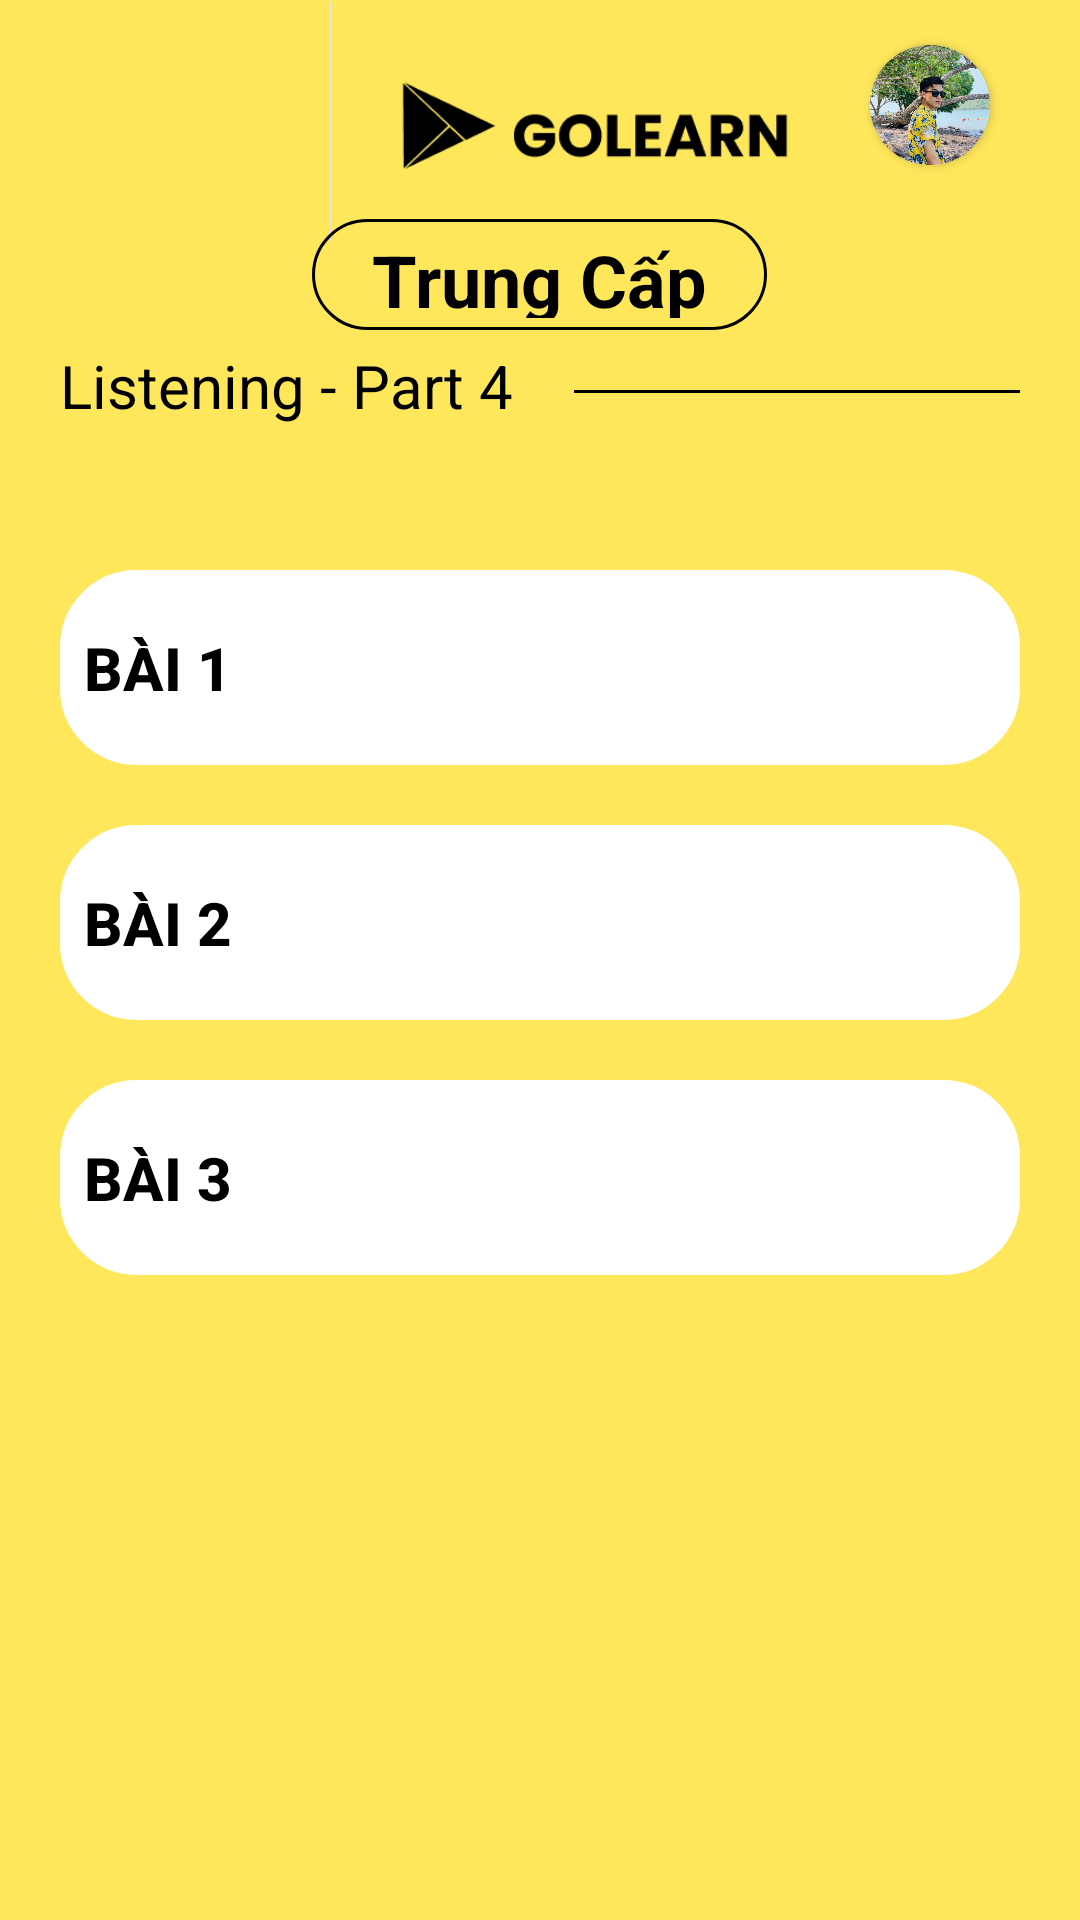

Icon bounding boxes for this 1080w x 1920h phone screenshot, format (x1, y1, x2, y2):
avt: (870, 45, 990, 165)
